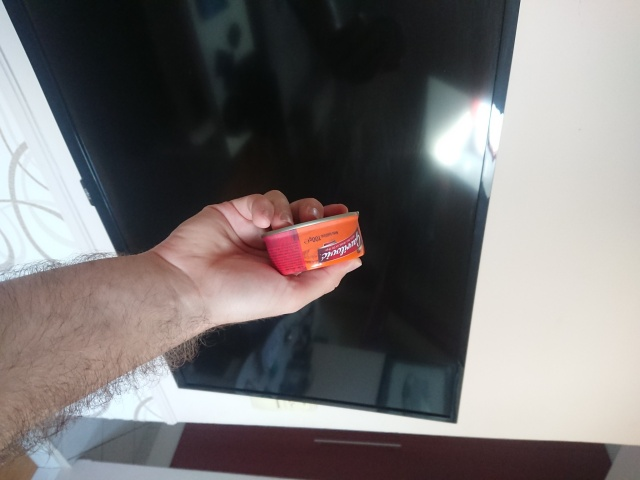Gavrilovic Pork Liver Pate 100g: (258, 208, 366, 278)
